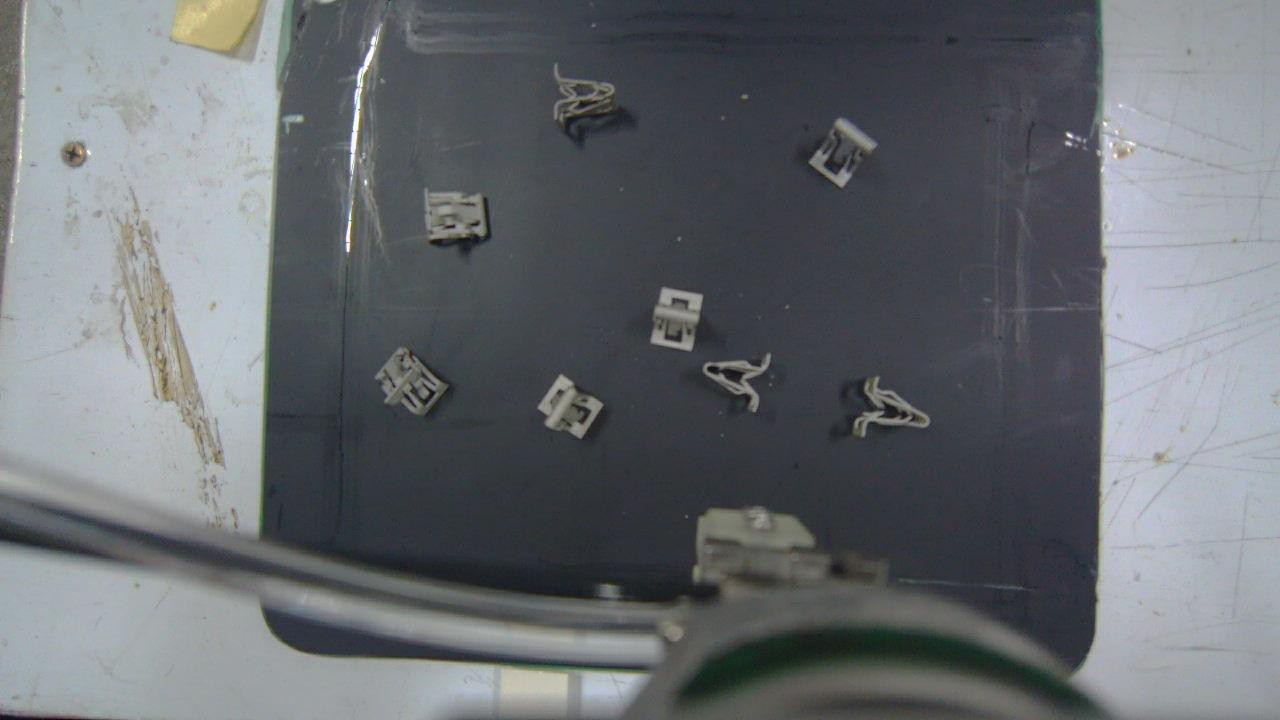ng: (371, 346, 449, 418), (808, 118, 875, 189), (854, 376, 931, 435), (701, 355, 773, 418), (554, 63, 617, 130), (423, 191, 486, 239)
pass: (536, 372, 600, 440), (649, 285, 706, 352)
